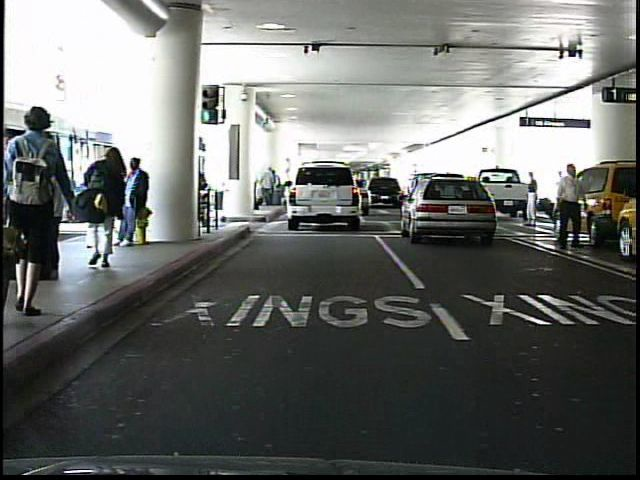person: (15, 108, 73, 327), (85, 139, 135, 273), (555, 161, 588, 255), (120, 155, 148, 246), (525, 171, 544, 229), (557, 169, 567, 210)
